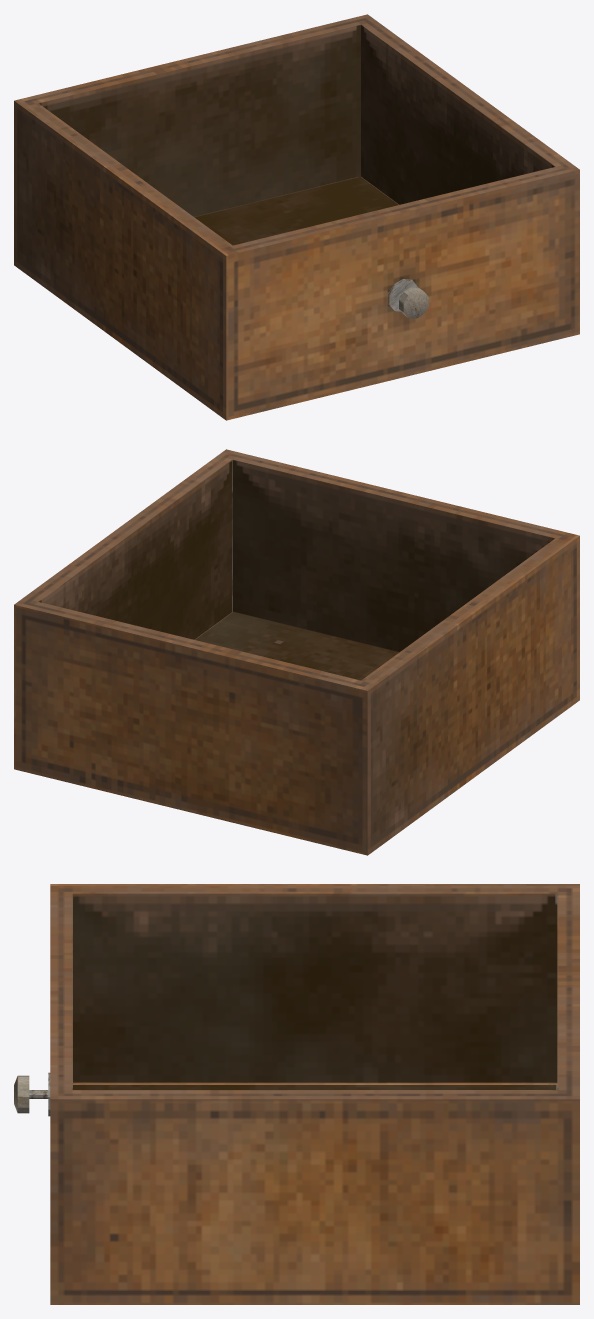
Rendered from DeskDrawer.fbx.
3 views of the same model, one above another, from view 1: azimuth 30°, elevation 25°; view 2: azimuth 150°, elevation 25°; view 3: azimuth 270°, elevation 25° (orthographic). The views are drawn at different scales.
Parts seen in each view (by area): view 1: DeskDrawer; view 2: DeskDrawer; view 3: DeskDrawer.
Boxes of the visible parts, x1=… form: DeskDrawer: x1=14, y1=14, x2=579, y2=420; DeskDrawer: x1=14, y1=449, x2=579, y2=855; DeskDrawer: x1=14, y1=884, x2=579, y2=1304.
Size of the model in its own units: 32.58 by 29.33 by 13.05.
